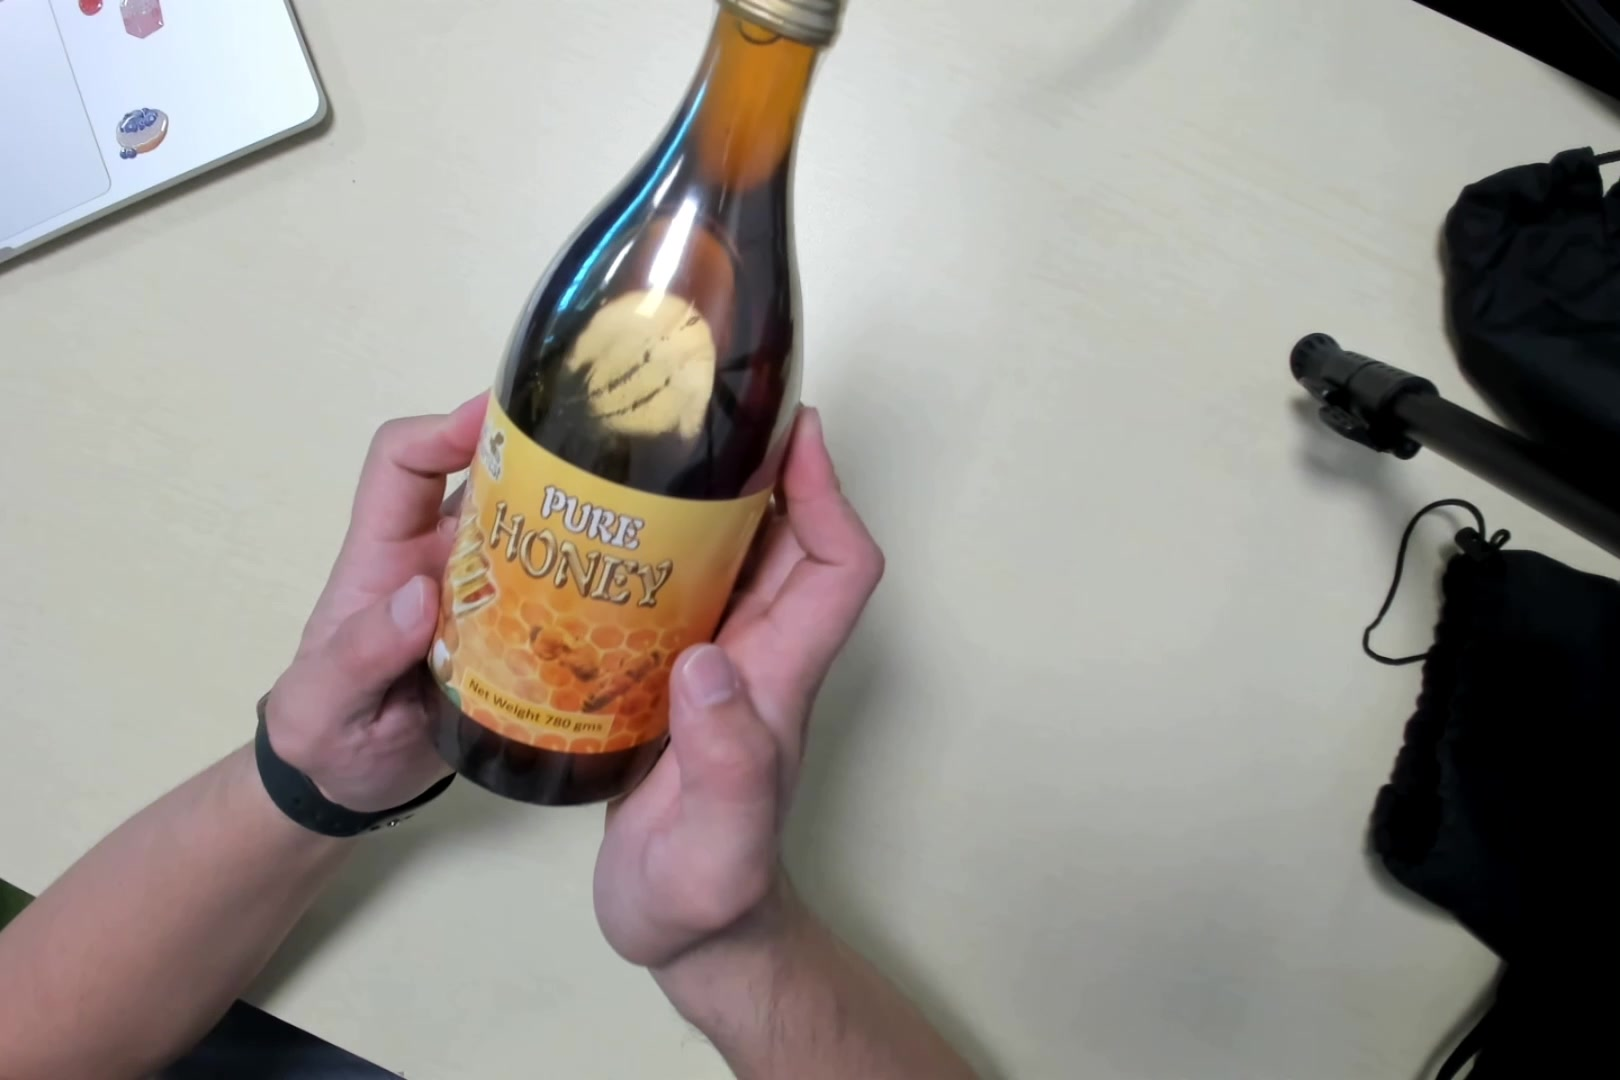OtherBakingNeeds_700-799g_Halal_NonHealthy: (427, 6, 841, 816)
